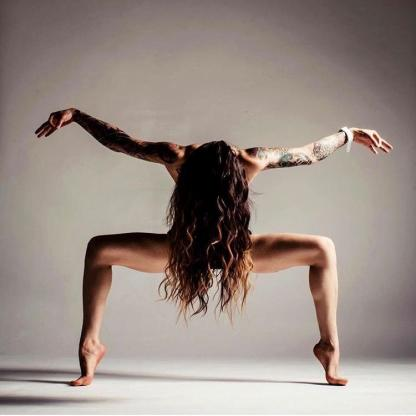godness: (30, 103, 397, 391)
